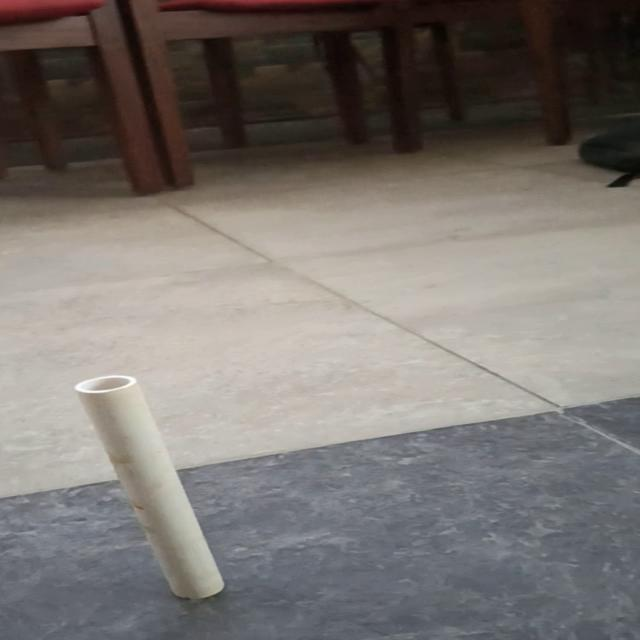Cube: (71, 374, 226, 600)
